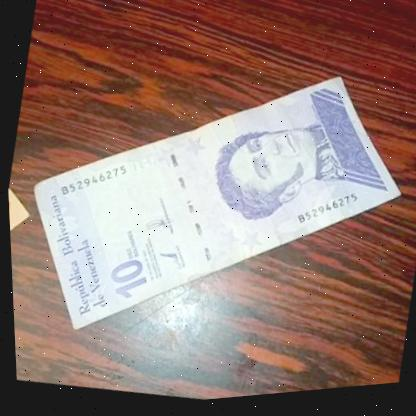ten-front-vef: (2, 18, 416, 396)
